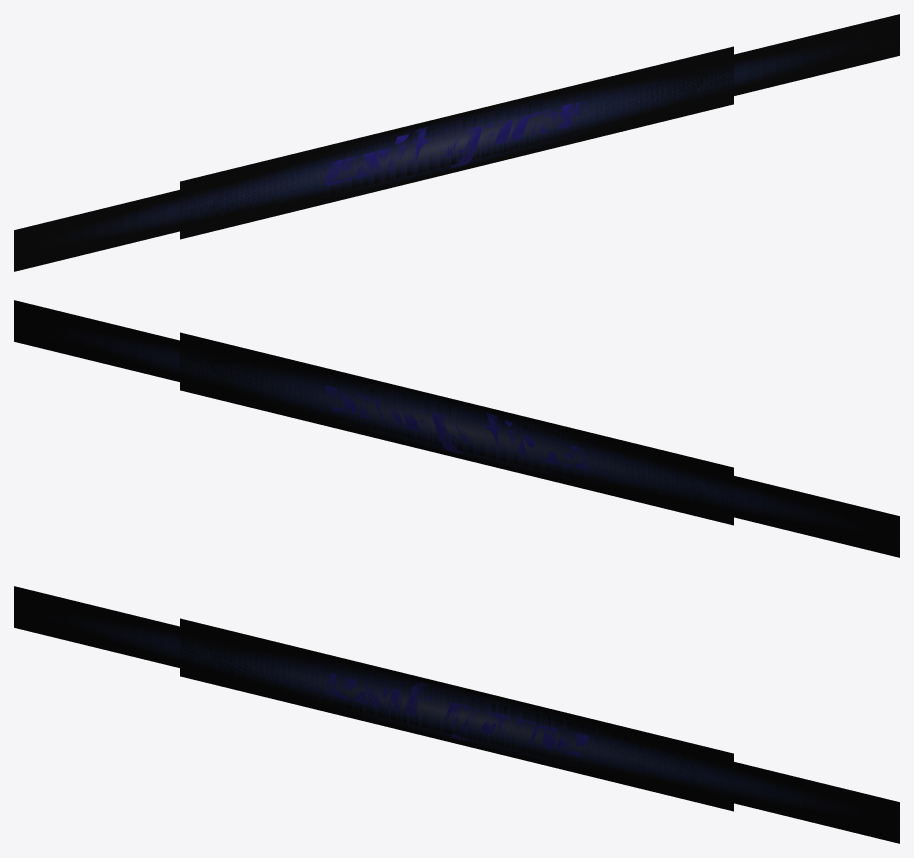
The picture shows the model from 3 angles, top to bottom: view 1: azimuth 30°, elevation 25°; view 2: azimuth 150°, elevation 25°; view 3: azimuth 330°, elevation 25°; orthographic projection.
Visible parts, largest first — view 1: Part04, Part03, B_buttoon0; view 2: Part04, Part03, B_buttoon0; view 3: Part04, Part03, B_buttoon0.
Part boxes in pixels (left/top/right/bottom): Part04: left=14, top=14, right=899, bottom=271; Part03: left=180, top=46, right=733, bottom=239; B_buttoon0: left=325, top=102, right=583, bottom=185; Part04: left=14, top=300, right=899, bottom=557; Part03: left=180, top=332, right=733, bottom=525; B_buttoon0: left=325, top=385, right=588, bottom=471; Part04: left=14, top=586, right=899, bottom=843; Part03: left=180, top=618, right=733, bottom=811; B_buttoon0: left=325, top=673, right=588, bottom=756.
Bounding box in the file's own units: 282 × 17.65 × 0.
Materials: 2 (2 with a texture image).
